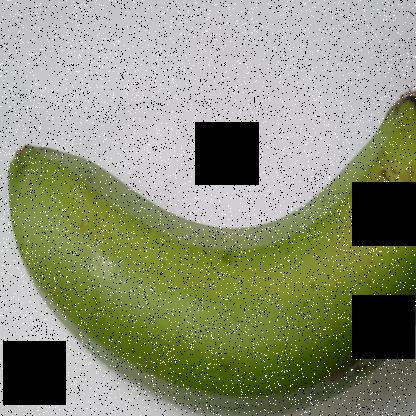freshunripe: (1, 74, 415, 415)
